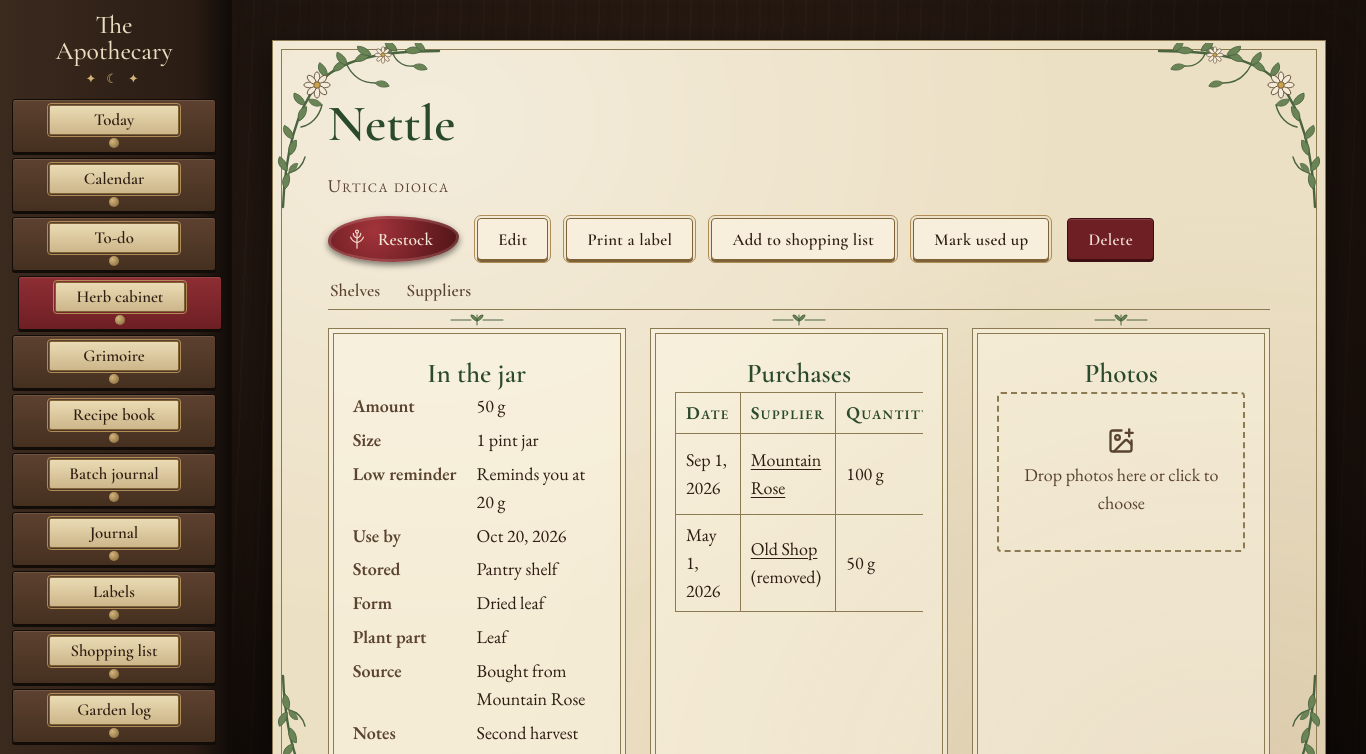
reads the jar again after adding it, so the button turns into the list link
This screenshot has width=1366, height=754.
Expected: the heading "Nettle" is shown, [328,96,456,152]
Step 1. Click the button "Add to shopping list" → (803, 239), box [711,218,895,260]
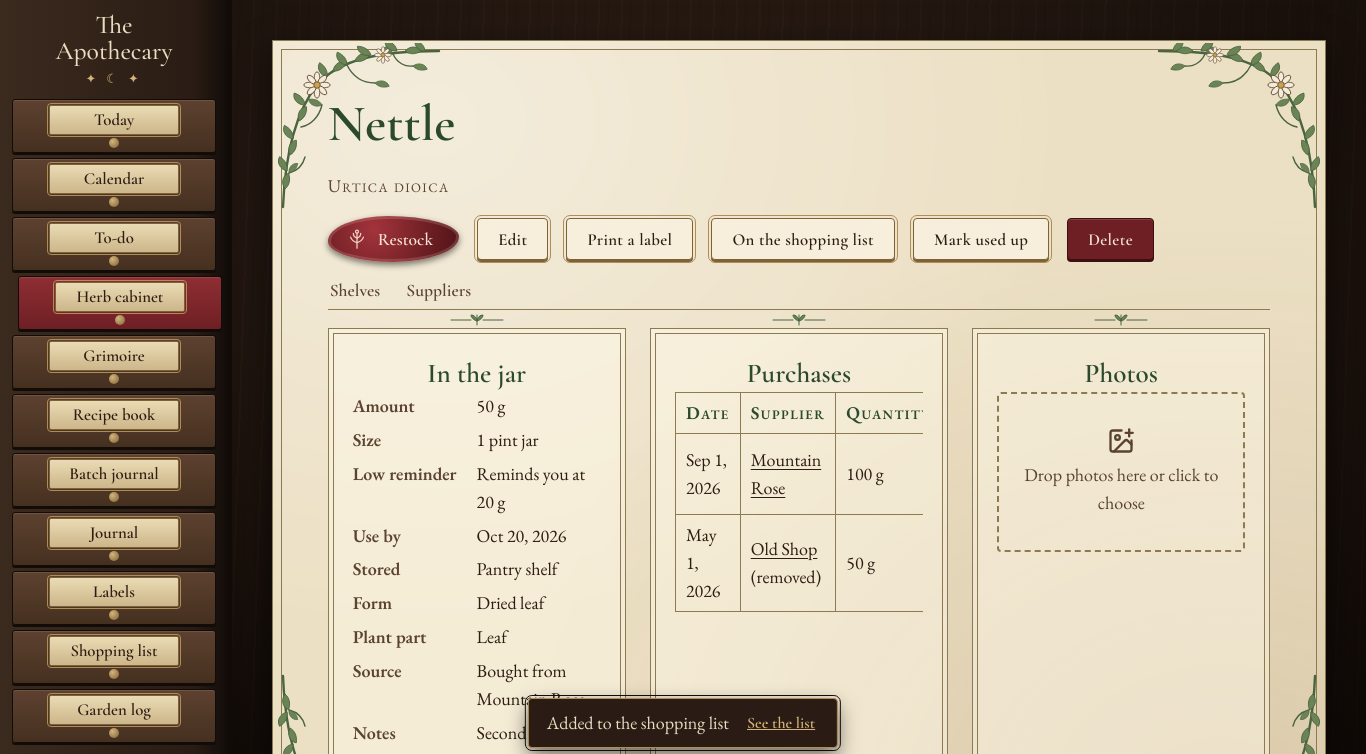
Expected: the text "Added to the shopping list" is shown, [547,709,729,737]
Expected: the button "Add to shopping list" is gone
